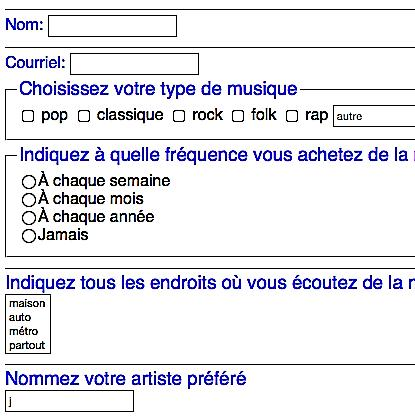checkbox: (76, 109, 91, 124), (230, 109, 245, 124), (171, 108, 186, 122), (285, 108, 298, 123), (20, 109, 32, 123)
checkbox_with_label: (74, 106, 162, 125), (167, 106, 223, 125), (17, 106, 66, 125), (280, 107, 328, 125), (229, 107, 275, 125)
field: (68, 51, 202, 78), (4, 389, 135, 414), (46, 13, 178, 37)
field_with_label: (2, 368, 247, 414), (4, 49, 203, 81), (5, 12, 178, 39)
radio: (20, 227, 37, 245), (20, 173, 37, 190), (20, 209, 37, 225), (20, 191, 35, 209)
radio_with_label: (18, 170, 171, 192), (16, 207, 155, 229), (18, 189, 145, 210), (16, 227, 89, 246)
